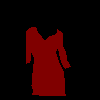maglia: (25, 26, 70, 96)
